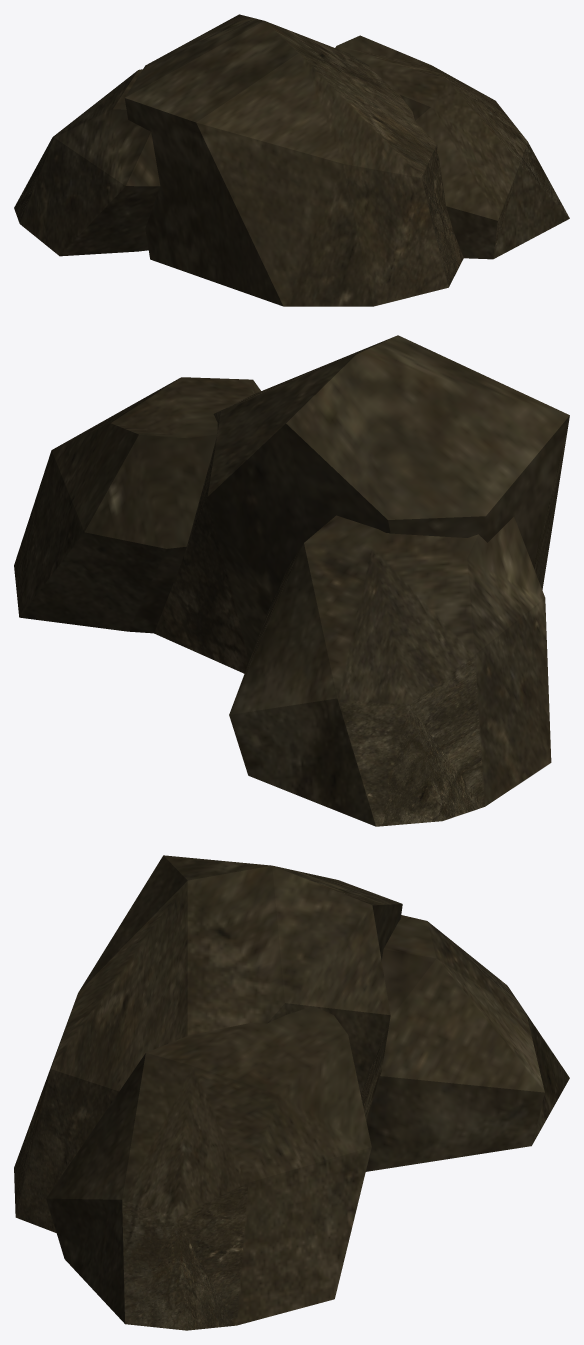
The model's file is stone_03.fbx.
3 views of the same model, one above another, from view 1: azimuth 30°, elevation 25°; view 2: azimuth 150°, elevation 25°; view 3: azimuth 270°, elevation 25° (orthographic). The views are drawn at different scales.
Visible parts, largest first — view 1: stone_03; view 2: stone_03; view 3: stone_03.
Boxes of the visible parts, left/top/right/bottom form: stone_03: left=14, top=14, right=569, bottom=306; stone_03: left=14, top=335, right=569, bottom=826; stone_03: left=14, top=855, right=569, bottom=1330.
Bounding box in the file's own units: 144 × 70.06 × 120.
Materials: 1 (1 with a texture image).
